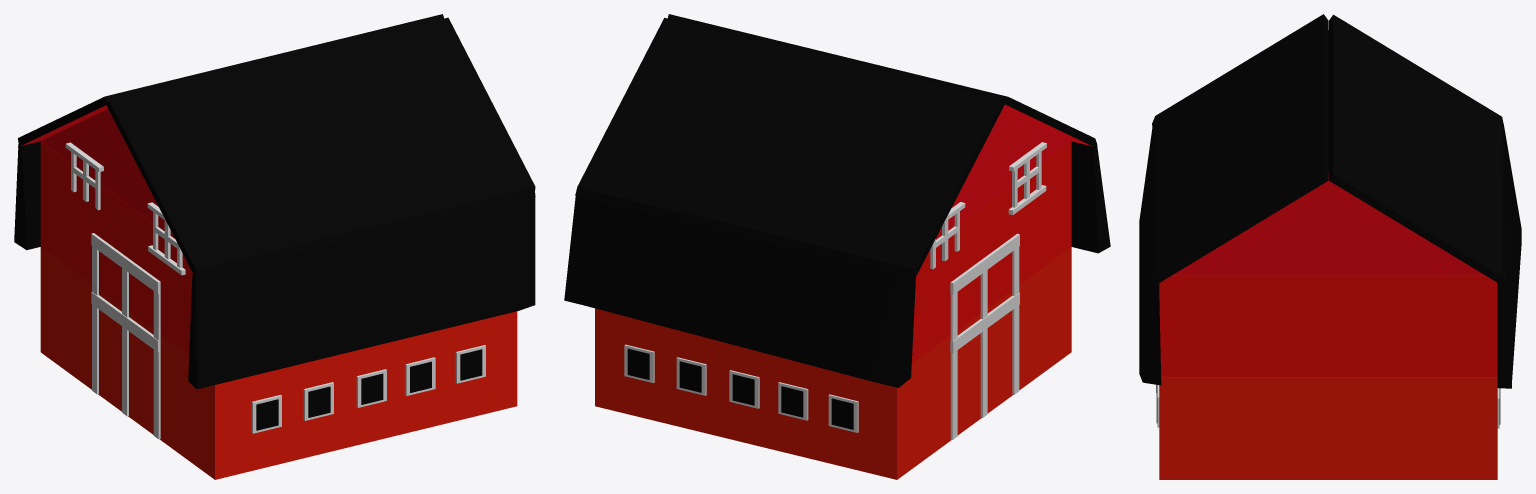
File: Barn.fbx
3 renders of one model, left to right at view 1: azimuth 30°, elevation 25°; view 2: azimuth 150°, elevation 25°; view 3: azimuth 270°, elevation 25°, orthographic. The views are drawn at different scales.
Parts seen in each view (by area): view 1: Cube.003, Cube.001, Cube, Cube.002, Cube.025, Cube.026, Cube.028, Cube.027, Cube.024, Cube.006, Cube.019, Cube.021 (+2 smaller); view 2: Cube.002, Cube.001, Cube, Cube.003, Cube.024, Cube.025, Cube.027, Cube.026, Cube.028, Cube.009, Cube.005, Cube.010 (+2 smaller); view 3: Cube.001, Cube.003, Cube.002, Cube.
Part boxes in pixels (<box>): Cube.003: <box>106,17,535,278</box>; Cube.001: <box>14,141,535,389</box>; Cube: <box>40,247,517,479</box>; Cube.002: <box>18,14,443,204</box>; Cube.025: <box>153,291,160,439</box>; Cube.026: <box>91,233,160,293</box>; Cube.028: <box>91,292,160,352</box>; Cube.027: <box>122,268,128,416</box>; Cube.024: <box>92,246,98,393</box>; Cube.006: <box>256,399,278,430</box>; Cube.019: <box>308,386,330,417</box>; Cube.021: <box>361,373,383,404</box>; Cube.002: <box>575,18,1004,278</box>; Cube.001: <box>564,141,1110,387</box>; Cube: <box>595,247,1071,479</box>; Cube.003: <box>667,14,1097,204</box>; Cube.024: <box>950,292,957,439</box>; Cube.025: <box>1012,247,1019,394</box>; Cube.027: <box>980,270,987,417</box>; Cube.026: <box>950,233,1019,294</box>; Cube.028: <box>950,292,1019,352</box>; Cube.009: <box>679,361,701,392</box>; Cube.005: <box>831,398,853,429</box>; Cube.010: <box>781,386,803,417</box>; Cube.001: <box>1139,124,1521,388</box>; Cube.003: <box>1152,14,1328,285</box>; Cube.002: <box>1328,14,1504,284</box>; Cube: <box>1159,377,1497,479</box>.
Bounding box in the file's own units: 1407 × 1225 × 1357.
